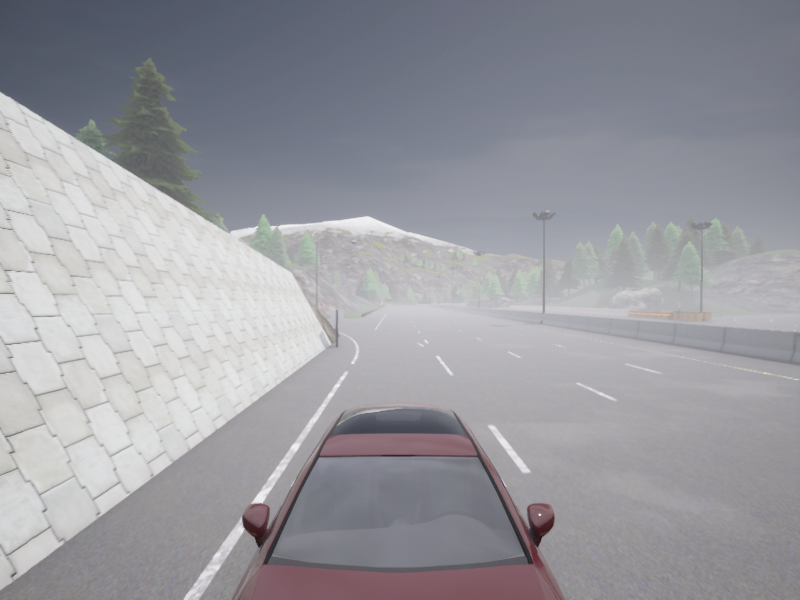vehicle: (232, 401, 564, 599)
